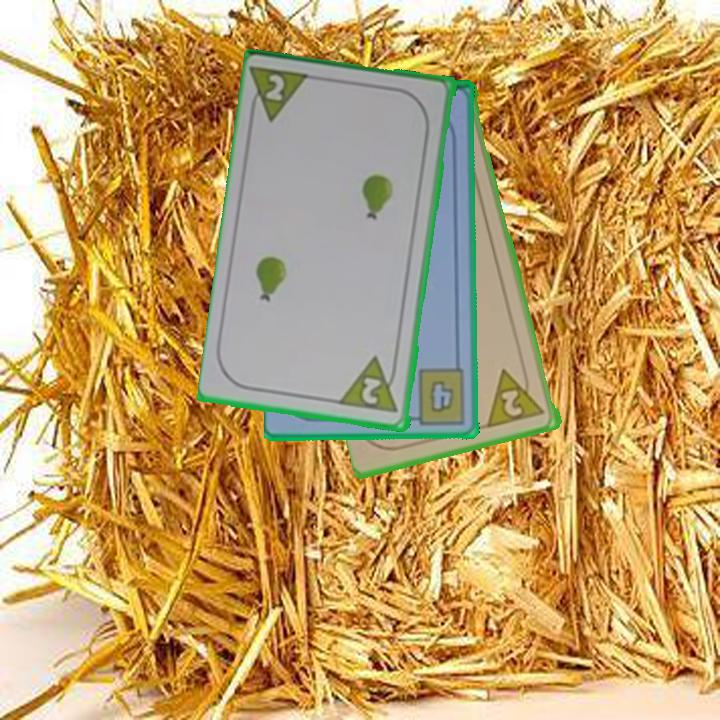2p: (245, 63, 316, 126), (485, 362, 548, 431), (338, 354, 402, 417)
4b: (405, 365, 469, 427)
